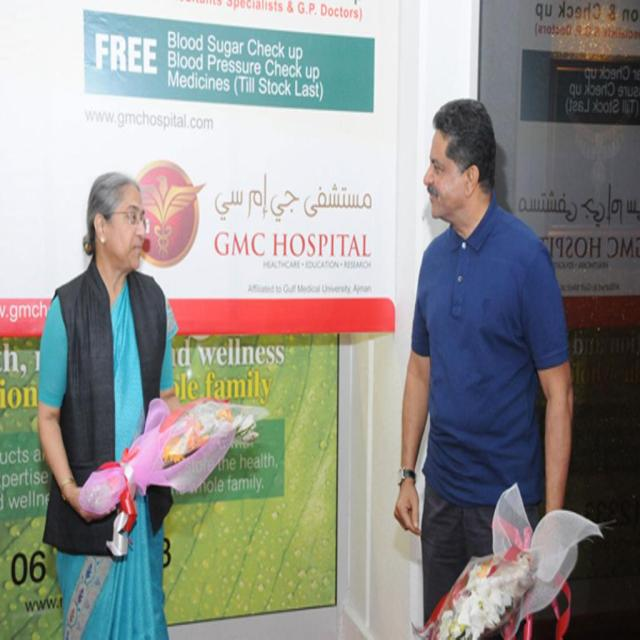Face: (105, 193, 160, 272), (417, 134, 466, 213)
